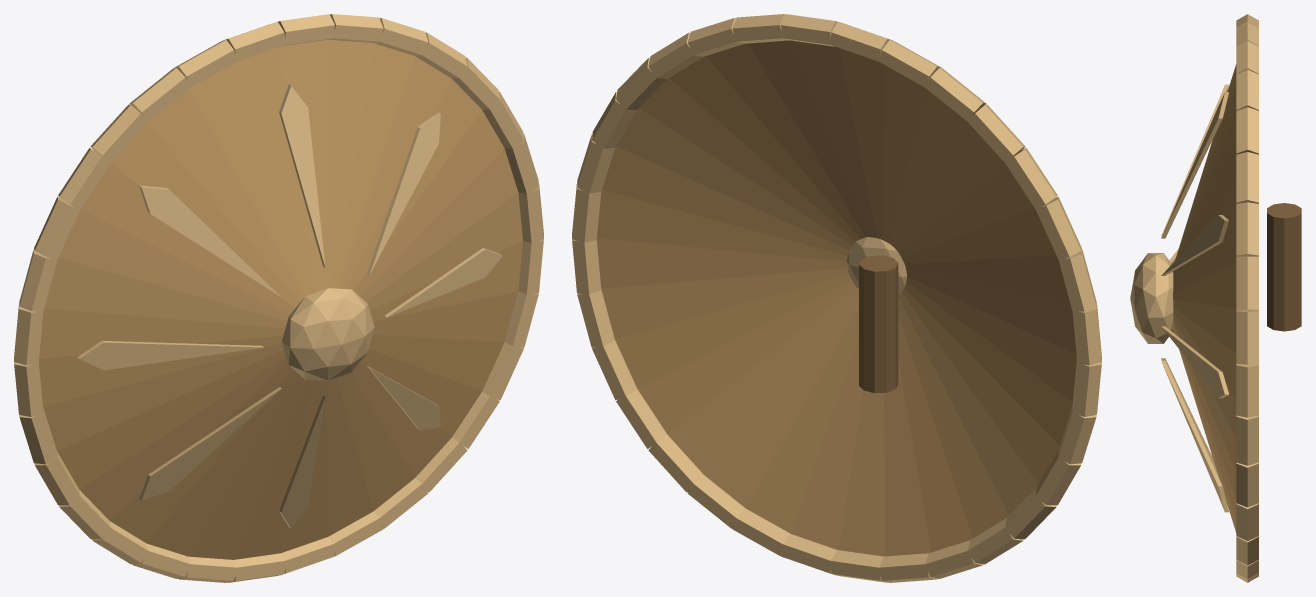
Rendered from shield.glb.
3 renders of one model, left to right at view 1: azimuth 30°, elevation 25°; view 2: azimuth 150°, elevation 25°; view 3: azimuth 270°, elevation 25°, orthographic. The views are drawn at different scales.
Parts seen in each view (by area): view 1: Convex bronze shield, Shield central boss, Shield sun ray.006, Shield sun ray, Shield sun ray.007, Shield sun ray.005, Shield sun ray.001, Shield sun ray.004, Shield sun ray.002, Shield sun ray.003, Shield rolled rim.028, Shield rolled rim.026 (+30 smaller); view 2: Convex bronze shield, Rear shield grip, Shield rolled rim.026, Shield rolled rim.027, Shield rolled rim.028, Shield rolled rim.029, Shield rolled rim.025, Shield rolled rim.030, Shield rolled rim.011, Shield rolled rim.012, Shield rolled rim.010, Shield rolled rim.013 (+23 smaller); view 3: Convex bronze shield, Rear shield grip, Shield central boss, Shield rolled rim.005, Shield rolled rim.006, Shield rolled rim.004, Shield rolled rim.007, Shield sun ray.002, Shield sun ray.001, Shield rolled rim.003, Shield sun ray, Shield rolled rim.008 (+11 smaller).
Boxes of the visible parts, x1,y1,x2,y2 form: Convex bronze shield: [39, 39, 522, 559]; Shield central boss: [282, 288, 374, 380]; Shield sun ray.006: [77, 341, 263, 370]; Shield sun ray: [279, 84, 325, 267]; Shield sun ray.007: [139, 185, 281, 297]; Shield sun ray.005: [139, 387, 281, 500]; Shield sun ray.001: [366, 112, 440, 275]; Shield sun ray.004: [279, 395, 325, 528]; Shield sun ray.002: [385, 248, 502, 317]; Shield sun ray.003: [367, 366, 440, 430]; Shield rolled rim.028: [90, 104, 148, 162]; Shield rolled rim.026: [34, 196, 80, 260]; Convex bronze shield: [597, 40, 1076, 556]; Rear shield grip: [859, 255, 898, 393]; Shield rolled rim.026: [1035, 196, 1081, 259]; Shield rolled rim.027: [1005, 148, 1057, 209]; Shield rolled rim.028: [968, 104, 1025, 162]; Shield rolled rim.029: [925, 68, 986, 121]; Shield rolled rim.025: [1058, 249, 1096, 312]; Shield rolled rim.030: [878, 40, 941, 87]; Shield rolled rim.011: [616, 389, 667, 448]; Shield rolled rim.012: [648, 434, 703, 492]; Shield rolled rim.010: [592, 340, 637, 400]; Shield rolled rim.013: [687, 475, 745, 528]; Convex bronze shield: [1173, 64, 1236, 532]; Rear shield grip: [1267, 203, 1301, 331]; Shield central boss: [1130, 253, 1173, 343]; Shield rolled rim.005: [1236, 256, 1258, 310]; Shield rolled rim.006: [1236, 310, 1258, 364]; Shield rolled rim.004: [1236, 202, 1258, 256]; Shield rolled rim.007: [1236, 364, 1258, 417]; Shield sun ray.002: [1161, 326, 1228, 398]; Shield sun ray.001: [1161, 215, 1228, 275]; Shield rolled rim.003: [1236, 152, 1258, 203]; Shield sun ray: [1161, 92, 1228, 238]; Shield rolled rim.008: [1236, 415, 1258, 465].
Bounding box in the file's own units: 0.7758 × 0.7758 × 0.2338.
